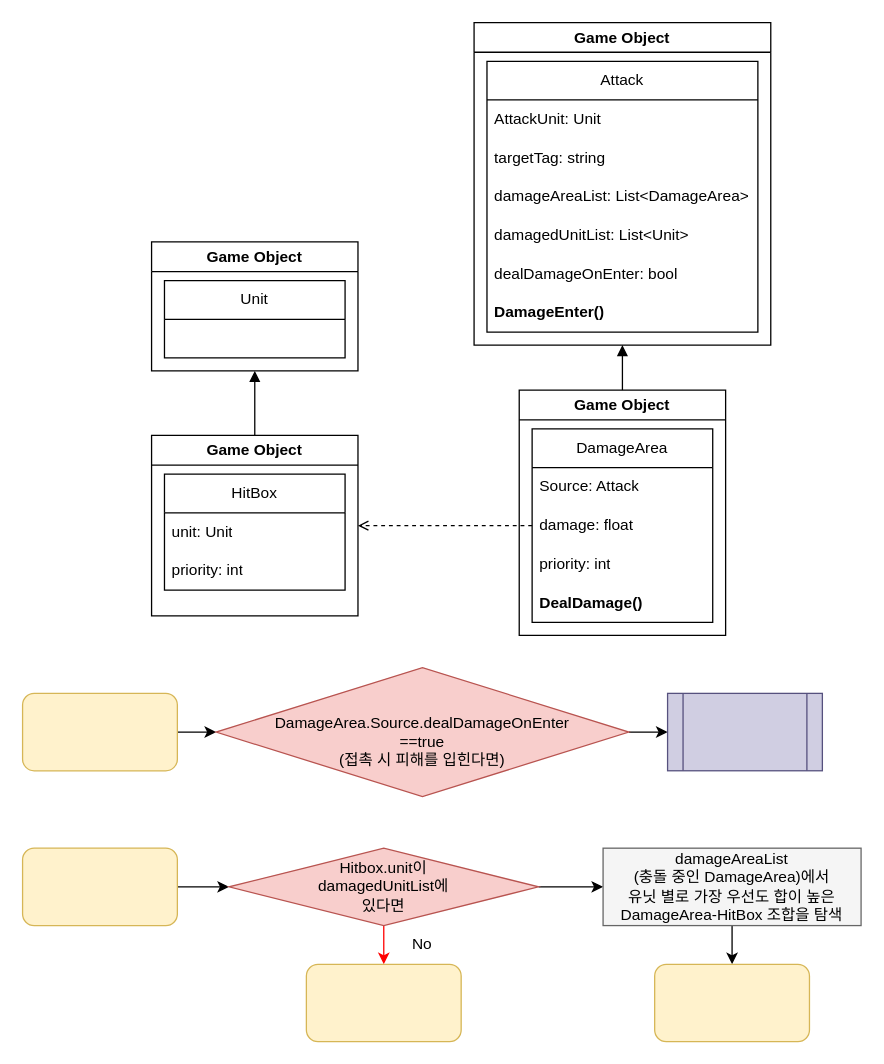
Image size: 884x1064. Some labels were removed from this diagram. Here are the shapes that lost their labels. From the top down, the centre of each, then its label:
At point 99,731: "DamageArea가 HitBox와 충돌".
At point 744,731: "피해 발생".
At point 99,886: "피해 발생 시".
At point 383,1002: "취소".
At point 731,1002: "실제 피해 적용".
